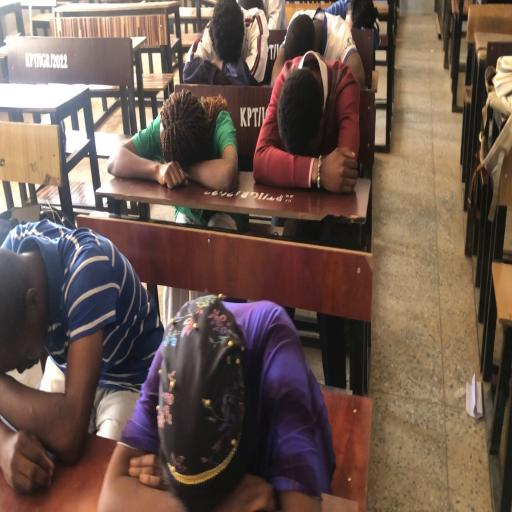Sleeping: (0, 214, 165, 497), (4, 190, 133, 491), (116, 2, 254, 198), (253, 9, 362, 195), (155, 296, 247, 487), (106, 82, 240, 197), (0, 80, 100, 224), (181, 1, 261, 86), (132, 6, 182, 133)
